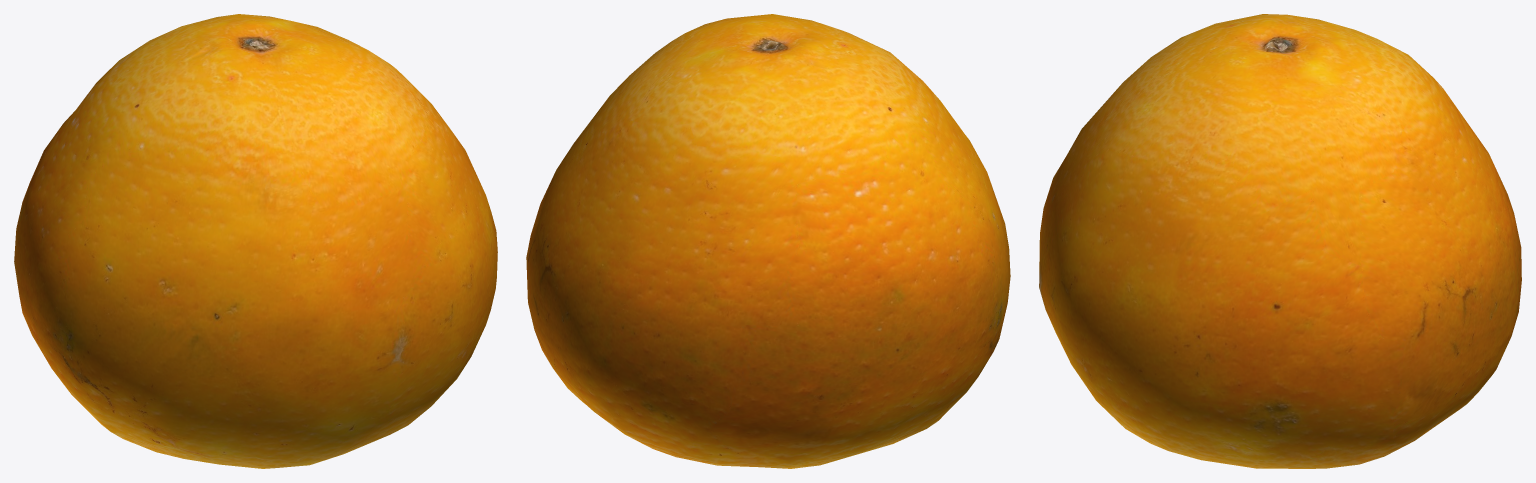
3 views of the same model, side by side, from view 1: azimuth 30°, elevation 25°; view 2: azimuth 150°, elevation 25°; view 3: azimuth 270°, elevation 25° (orthographic).
Parts seen in each view (by area): view 1: 20_orange; view 2: 20_orange; view 3: 20_orange.
Boxes of the visible parts, x1,y1,x2,y2 form: 20_orange: (14, 14, 497, 468); 20_orange: (526, 14, 1010, 468); 20_orange: (1039, 14, 1521, 468).
Size of the model in its own units: 0.9996 by 0.8842 by 0.9873.
1 material, 1 textured.
